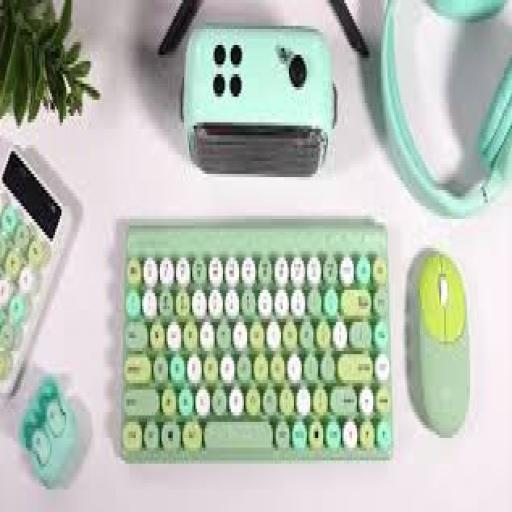KEYBOARD-2: (120, 225, 391, 457)
